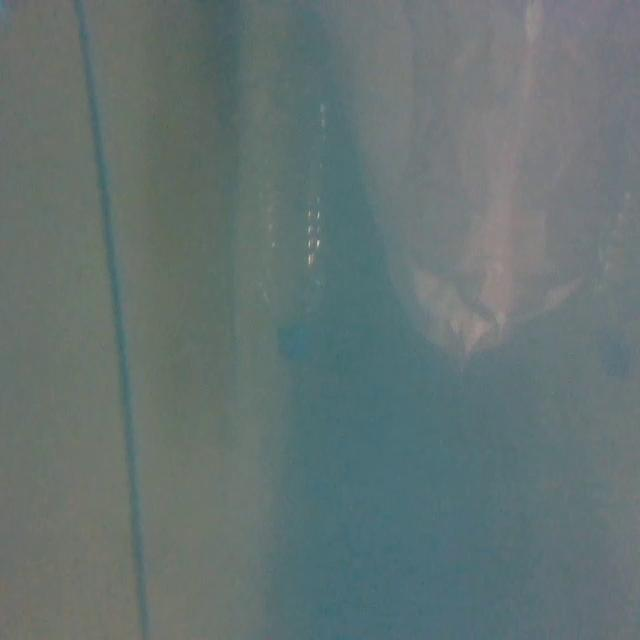plastic bags: (323, 3, 622, 365)
plastic bottle: (244, 104, 328, 364)
